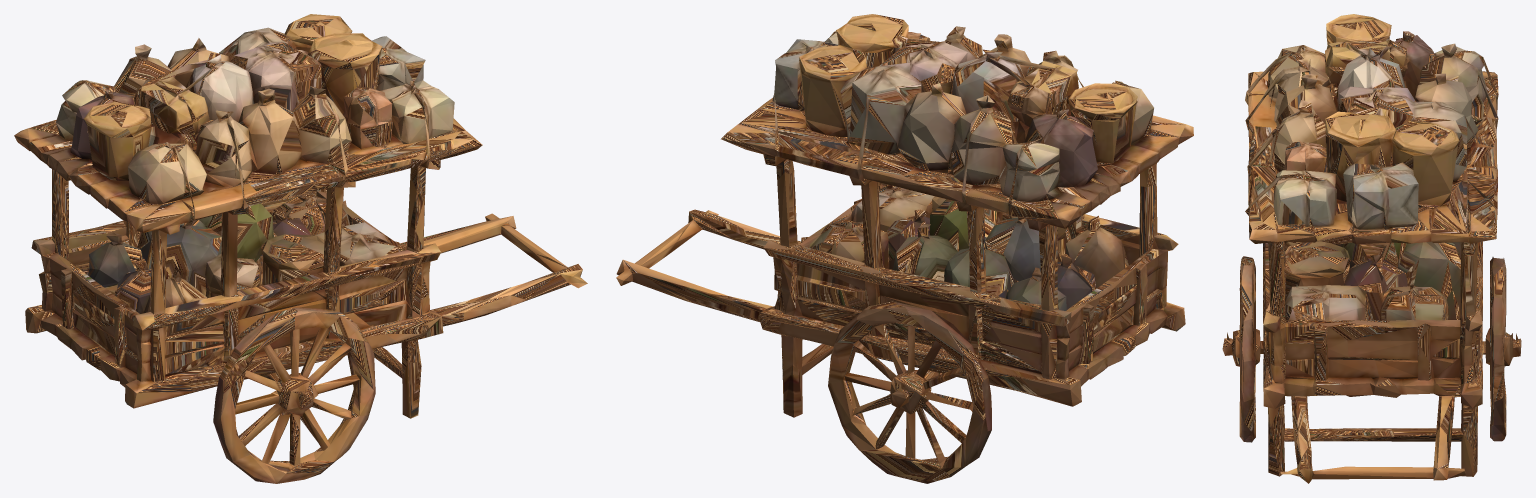
File: xe-cho-hang-xa.d607172c.glb
3 renders of one model, left to right at view 1: azimuth 30°, elevation 25°; view 2: azimuth 150°, elevation 25°; view 3: azimuth 270°, elevation 25°, orthographic. The views are drawn at different scales.
Visible parts, largest first — view 1: tripo_node_f5a4f33e-aff3-4c7f-aadc-f2dda5672677; view 2: tripo_node_f5a4f33e-aff3-4c7f-aadc-f2dda5672677; view 3: tripo_node_f5a4f33e-aff3-4c7f-aadc-f2dda5672677.
Boxes of the visible parts, x1=… form: tripo_node_f5a4f33e-aff3-4c7f-aadc-f2dda5672677: x1=14, y1=14, x2=587, y2=483; tripo_node_f5a4f33e-aff3-4c7f-aadc-f2dda5672677: x1=616, y1=14, x2=1193, y2=483; tripo_node_f5a4f33e-aff3-4c7f-aadc-f2dda5672677: x1=1222, y1=14, x2=1521, y2=483.
Bounding box in the file's own units: 0.9701 × 0.7499 × 0.5423.
Materials: 1 (1 with a texture image).
